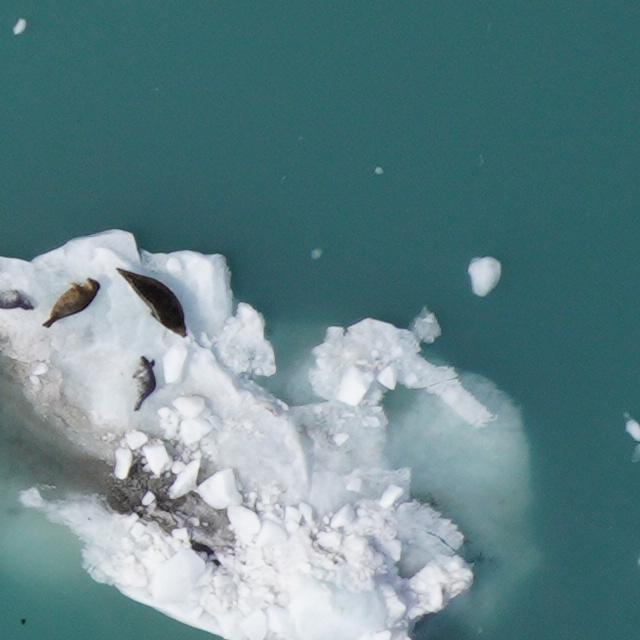seal: (105, 254, 203, 340), (38, 266, 104, 341), (131, 355, 156, 411), (0, 288, 33, 308)
